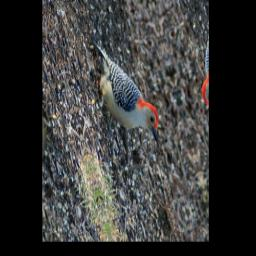Woodpecker: (78, 26, 166, 164)
